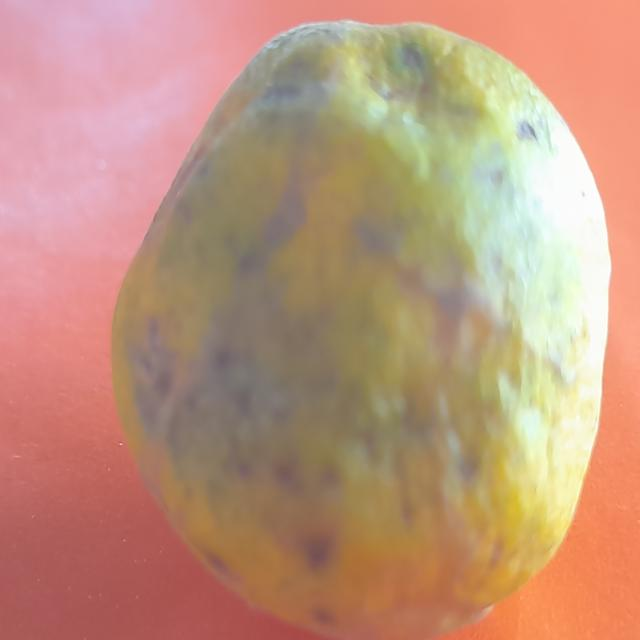black spot: (124, 8, 615, 610)
